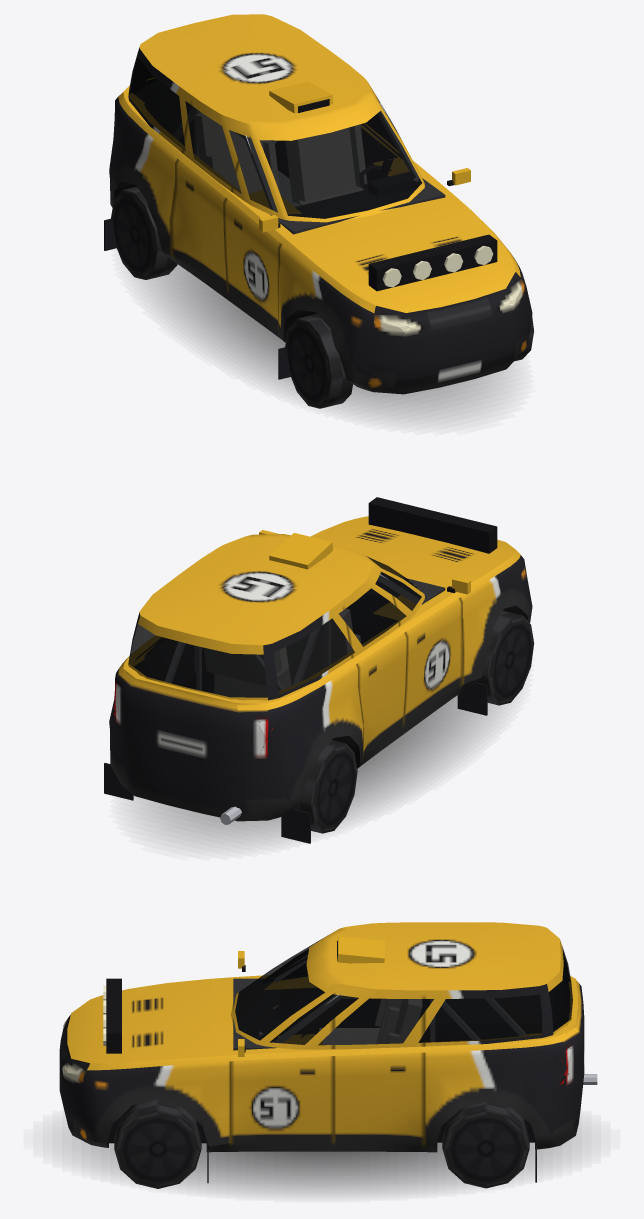
File: citrino.glb
3 renders of one model, top to bottom at view 1: azimuth 30°, elevation 25°; view 2: azimuth 150°, elevation 25°; view 3: azimuth 270°, elevation 25°, orthographic. The views are drawn at different scales.
Parts seen in each view (by area): view 1: Carroceria, Interior, Capo_malha, Sombra, Porta_TD_malha, Porta_D_malha, Roda_DD, Roda_TD, Farol; view 2: Carroceria, Tampa_malha, Sombra, Interior, Capo_malha, Porta_TD_malha, Porta_D_malha, Roda_TD, Roda_DD; view 3: Carroceria, Porta_TE_malha, Interior, Sombra, Porta_E_malha, Capo_malha, Roda_DE, Roda_TE, Tampa_malha, Porta_D_malha.
Boxes of the visible parts, x1,y1,x2,y2 form: Carroceria: [104, 14, 532, 394]; Interior: [135, 81, 445, 234]; Capo_malha: [300, 205, 520, 313]; Sombra: [142, 265, 509, 421]; Porta_TD_malha: [171, 96, 252, 291]; Porta_D_malha: [224, 135, 284, 331]; Roda_DD: [285, 313, 352, 408]; Roda_TD: [111, 186, 177, 279]; Farol: [373, 283, 524, 334]; Carroceria: [104, 521, 532, 843]; Tampa_malha: [121, 615, 267, 801]; Sombra: [133, 696, 501, 846]; Interior: [134, 573, 445, 696]; Capo_malha: [315, 497, 520, 583]; Porta_TD_malha: [342, 565, 407, 760]; Porta_D_malha: [379, 569, 470, 725]; Roda_TD: [294, 740, 357, 833]; Roda_DD: [476, 610, 534, 705]; Carroceria: [59, 922, 597, 1183]; Porta_TE_malha: [333, 984, 424, 1146]; Interior: [233, 955, 569, 1050]; Sombra: [62, 1127, 581, 1194]; Porta_E_malha: [231, 991, 333, 1145]; Capo_malha: [72, 978, 215, 1070]; Roda_DE: [114, 1099, 201, 1188]; Roda_TE: [442, 1101, 529, 1188]; Tampa_malha: [547, 939, 584, 1121]; Porta_D_malha: [238, 949, 308, 980].
Bounding box in the file's own units: 2.38 × 1.67 × 4.73.
14 materials, 5 textured.
